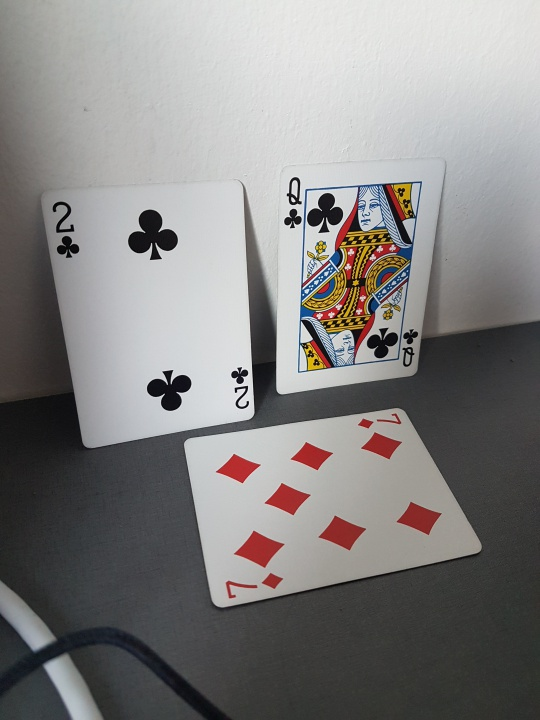2: (34, 184, 257, 450)
7: (186, 406, 484, 614)
queen: (271, 161, 449, 396)
